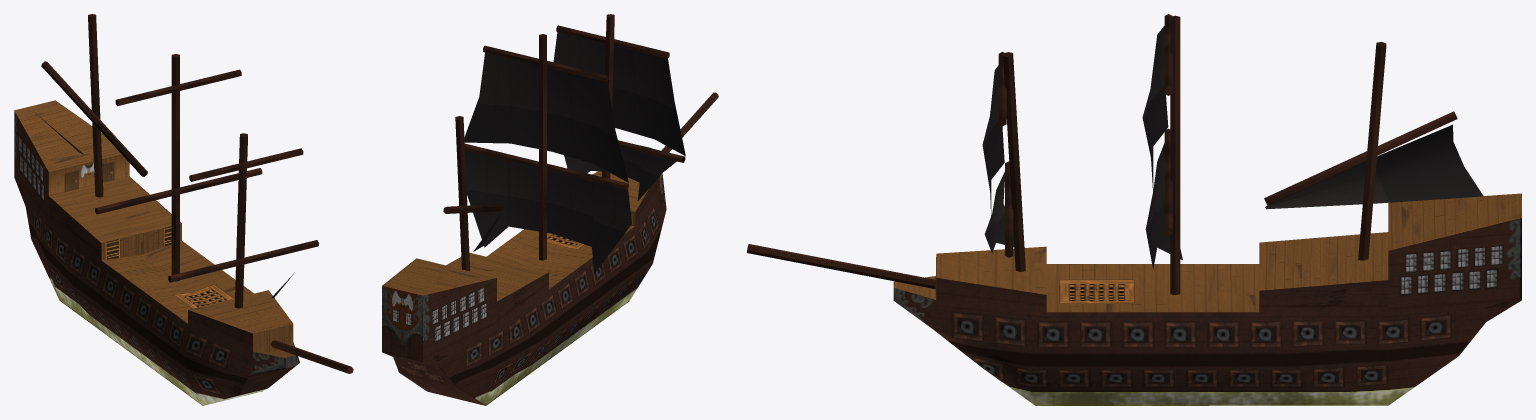
File: the flying dutchman.fbx
3 views of the same model, side by side, from view 1: azimuth 30°, elevation 25°; view 2: azimuth 150°, elevation 25°; view 3: azimuth 270°, elevation 25° (orthographic). The views are drawn at different scales.
Parts seen in each view (by area): view 1: Cylinder.7; view 2: Cylinder.7, Plane, Plane.1, Plane.2, Plane.3; view 3: Cylinder.7, Plane.4, Plane, Plane.1, Plane.2, Plane.3.
Part boxes in pixels (<box>): Cylinder.7: <box>14,14,353,405</box>; Cylinder.7: <box>382,14,718,405</box>; Plane: <box>464,52,628,182</box>; Plane.1: <box>465,150,631,273</box>; Plane.2: <box>553,32,685,156</box>; Plane.3: <box>564,145,676,200</box>; Cylinder.7: <box>747,14,1521,405</box>; Plane.4: <box>1265,124,1483,209</box>; Plane: <box>1142,26,1168,193</box>; Plane.1: <box>1145,143,1182,269</box>; Plane.2: <box>982,65,1004,217</box>; Plane.3: <box>984,171,1014,253</box>.
Size of the model in its own units: 207 by 351 by 667.
6 materials, 6 textured.
